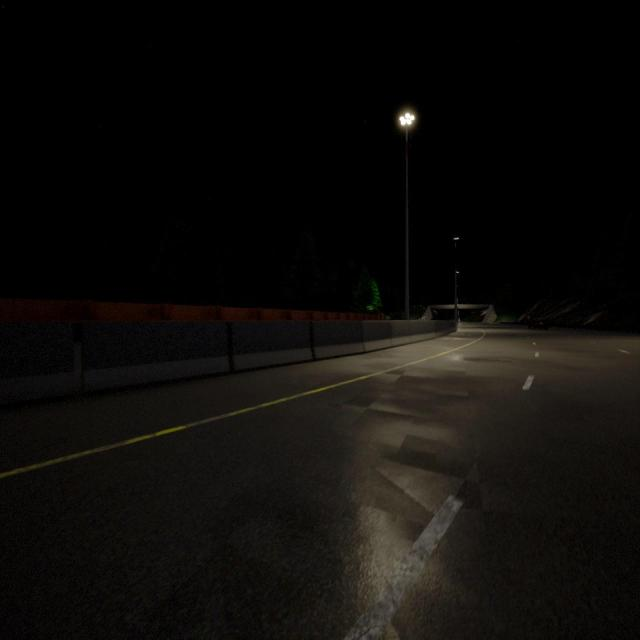Vehicle: (532, 320, 548, 330)
